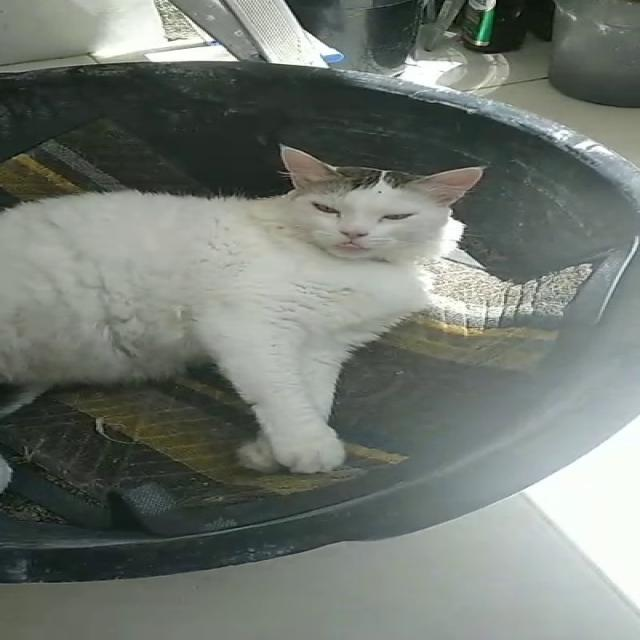Simba: (4, 124, 540, 492)
